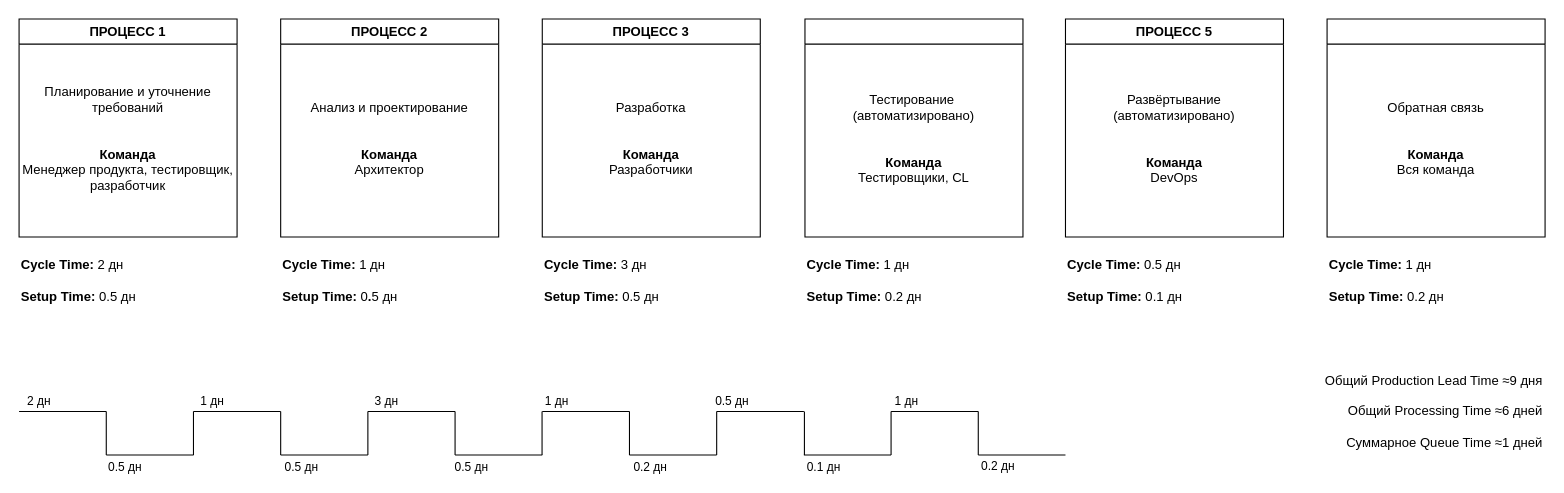
Some shapes in this 1564 by 493 pixel diagram are drawn without their labels. Here are the shapes that lost their labels. From the top down, the box of each, then its label:
(804, 18, 1023, 237): ПРОЦЕСС 4
(1326, 18, 1545, 237): ПРОЦЕСС 6
